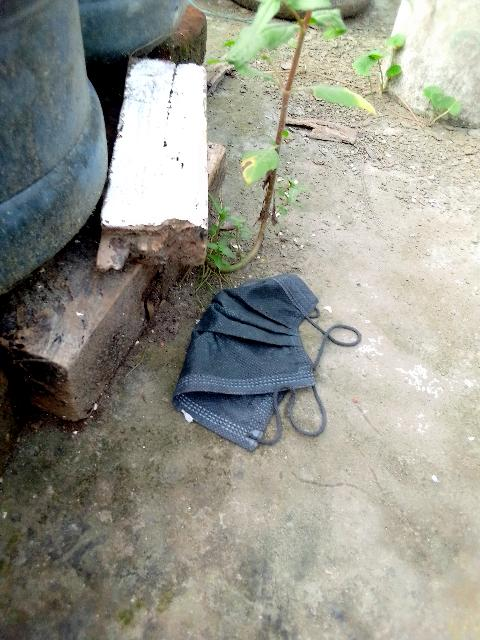mask: (188, 277, 339, 449)
